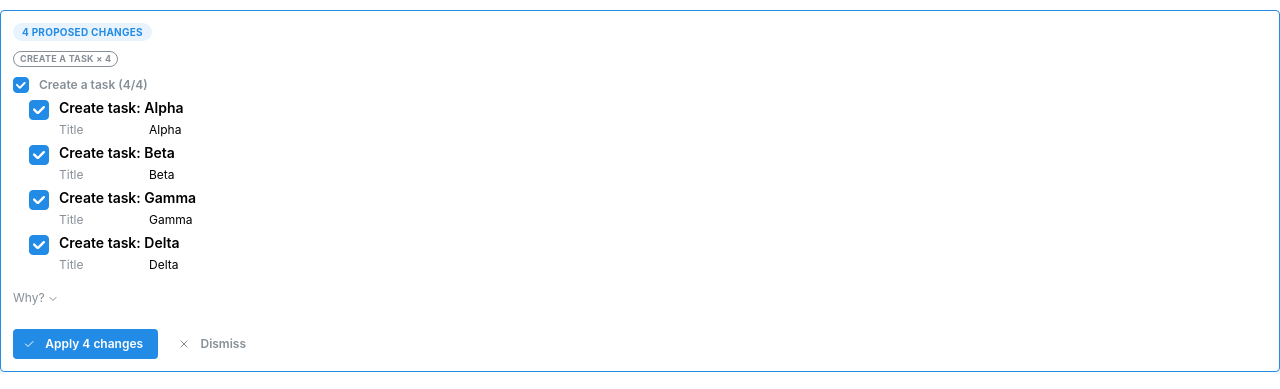
it: plan card — confirm label states the real count (SEC-P013) › counts checked rows at click time, not the proposal size
Expected: the button "Apply 4 changes" is shown, left=13, top=329, right=158, bottom=359
Click the checkbox named "Include: Create task: Delta": click(39, 245) left=29, top=235, right=49, bottom=255
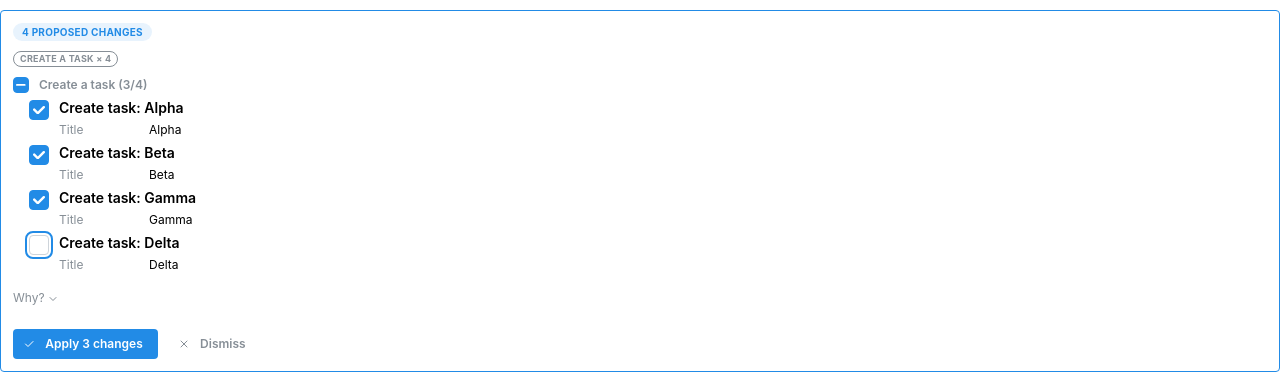
Expected: the button "Apply 3 changes" is shown, left=13, top=329, right=158, bottom=359
Expected: the button "Apply 4 changes" is gone
